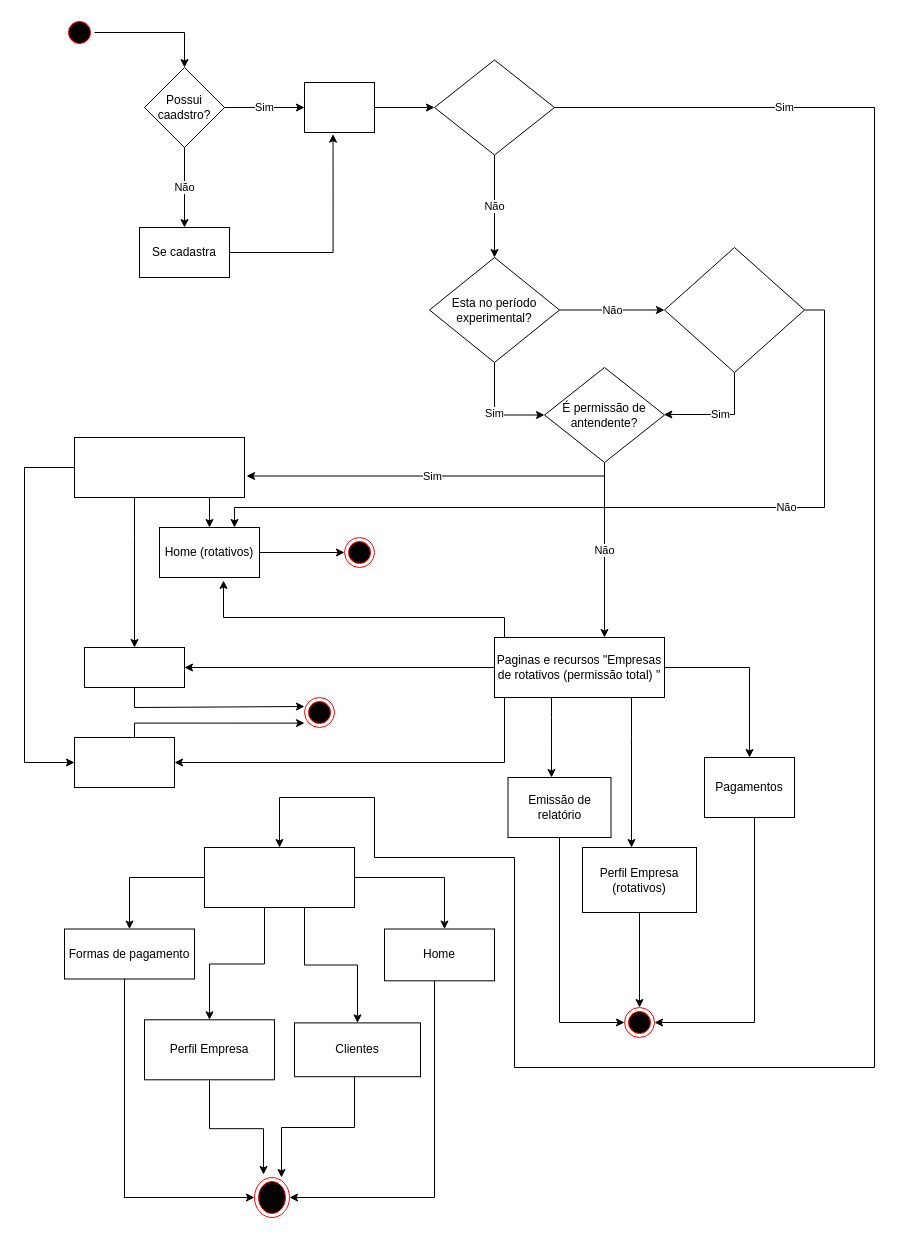
This 900x1235 diagram has some shape labels left out. The box of each missing label's shape, as (x1, y1, x2, y2) in pixels:
Empresa esta com pagamentos em dia?: (664, 246, 804, 372)
Locações: (84, 646, 184, 688)
Login: (304, 82, 374, 132)
Paginas e recursos "Empresas de rotativos (permissão restringida) ": (74, 436, 244, 498)
Paginas e recursos destinados ao acesso "Administrador do software": (204, 846, 354, 908)
Reservas: (74, 736, 174, 788)
É administrador?: (434, 59, 554, 155)
